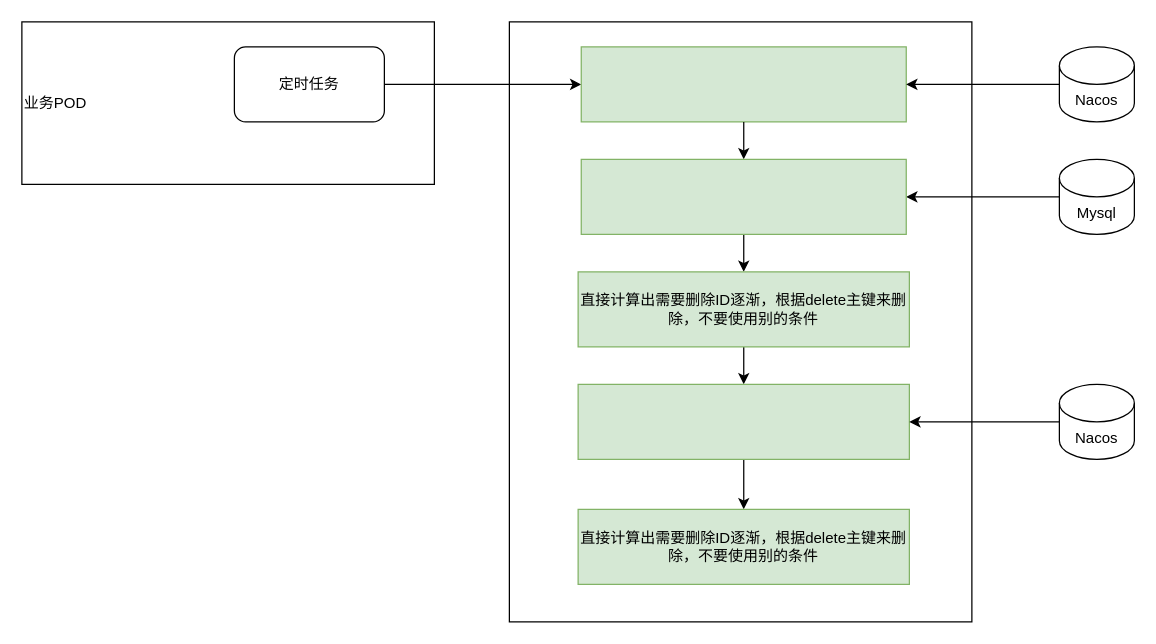
Image size: 1156x644. Some labels were removed from this diagram. The shapes that lost their labels are listed below. From the top down, each one's centre as x and y in pixels, then its label:
At [743,84]: "从Nacos获取高峰时期配置，如果在高峰期，不做任何处理".
At [743,196]: "获取唯一锁（要增加一个单独的表，做所竞争用）".
At [743,421]: "直接计算出需要删除ID逐渐，根据delete主键来删除，不要使用别的条件，limit nacos可配置".
